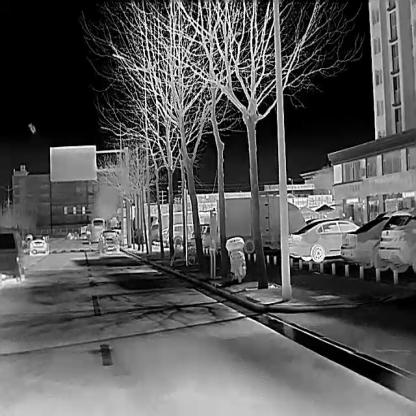bus: (89, 216, 107, 243), (29, 234, 50, 255)
car: (286, 217, 388, 262), (340, 214, 416, 268), (377, 206, 415, 270), (0, 227, 25, 281), (156, 222, 205, 244), (96, 229, 120, 254)
truck: (215, 194, 306, 253), (196, 207, 268, 250), (147, 209, 209, 244)
